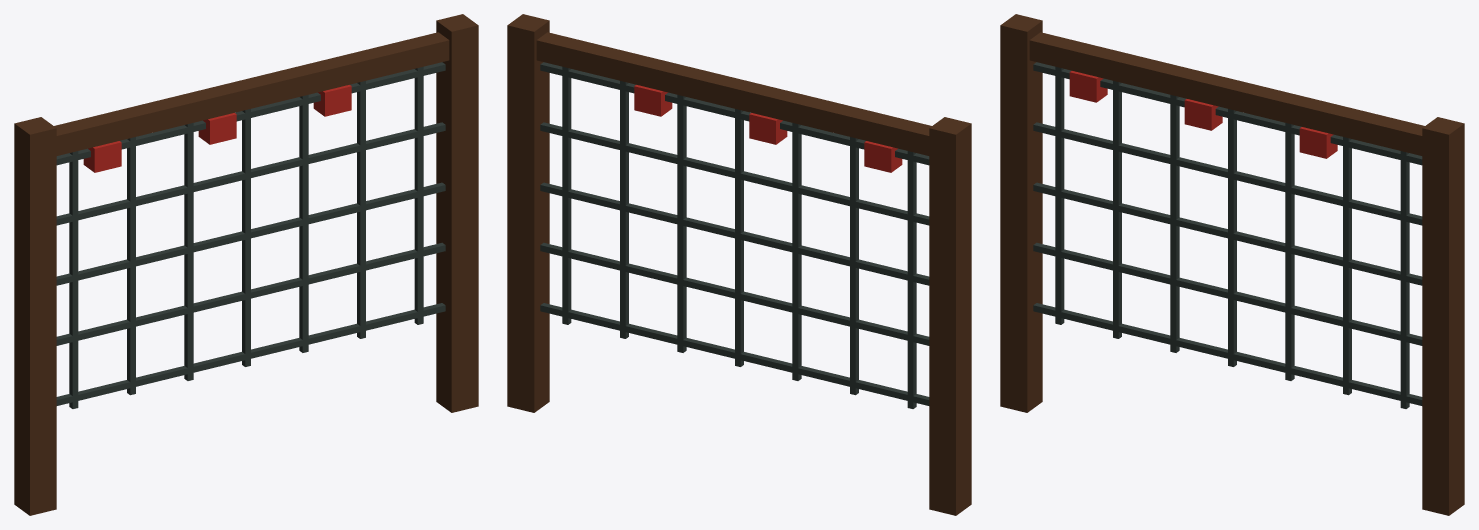
File: dba-net-rack.glb
The picture shows the model from 3 angles, left to right: view 1: azimuth 30°, elevation 25°; view 2: azimuth 150°, elevation 25°; view 3: azimuth 330°, elevation 25°; orthographic projection.
Parts seen in each view (by area): view 1: box-prop; view 2: box-prop; view 3: box-prop.
Part boxes in pixels (x1,y1,x2,y2): box-prop: (14,14,478,515); box-prop: (507,14,971,515); box-prop: (1000,14,1464,515).
Bounding box in the file's own units: 2.34 × 1.9 × 0.14.
